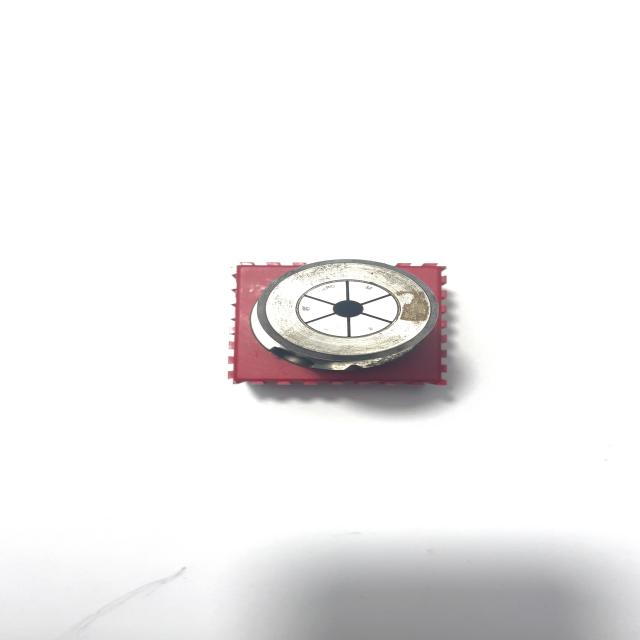Filled_Slot: (249, 259, 439, 371)
